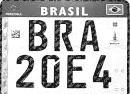placa_mercosul: (0, 1, 129, 93)
